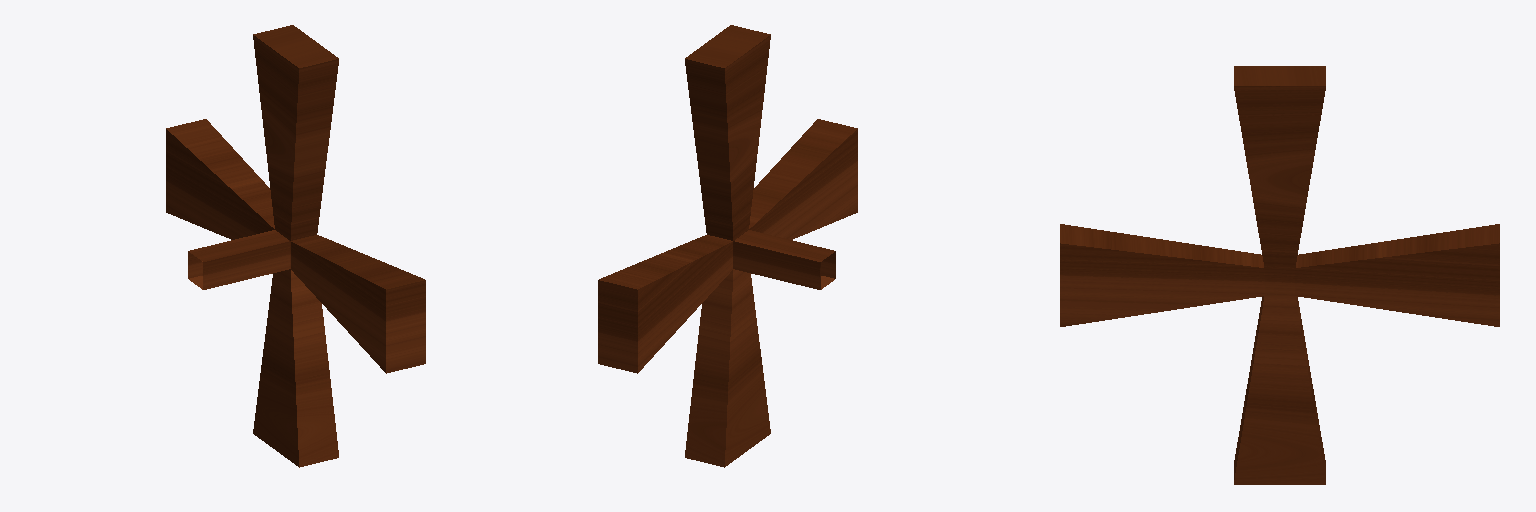
3 renders of one model, left to right at view 1: azimuth 30°, elevation 25°; view 2: azimuth 150°, elevation 25°; view 3: azimuth 270°, elevation 25°, orthographic.
Visible parts, largest first — view 1: Spiner_Cube.020; view 2: Spiner_Cube.020; view 3: Spiner_Cube.020.
Part boxes in pixels (left/top/right/bottom): Spiner_Cube.020: left=166, top=25, right=425, bottom=467; Spiner_Cube.020: left=598, top=25, right=857, bottom=467; Spiner_Cube.020: left=1060, top=66, right=1499, bottom=484.
Size of the model in its own units: 0.36 by 1.14 by 1.14.
1 materials, 1 textured.